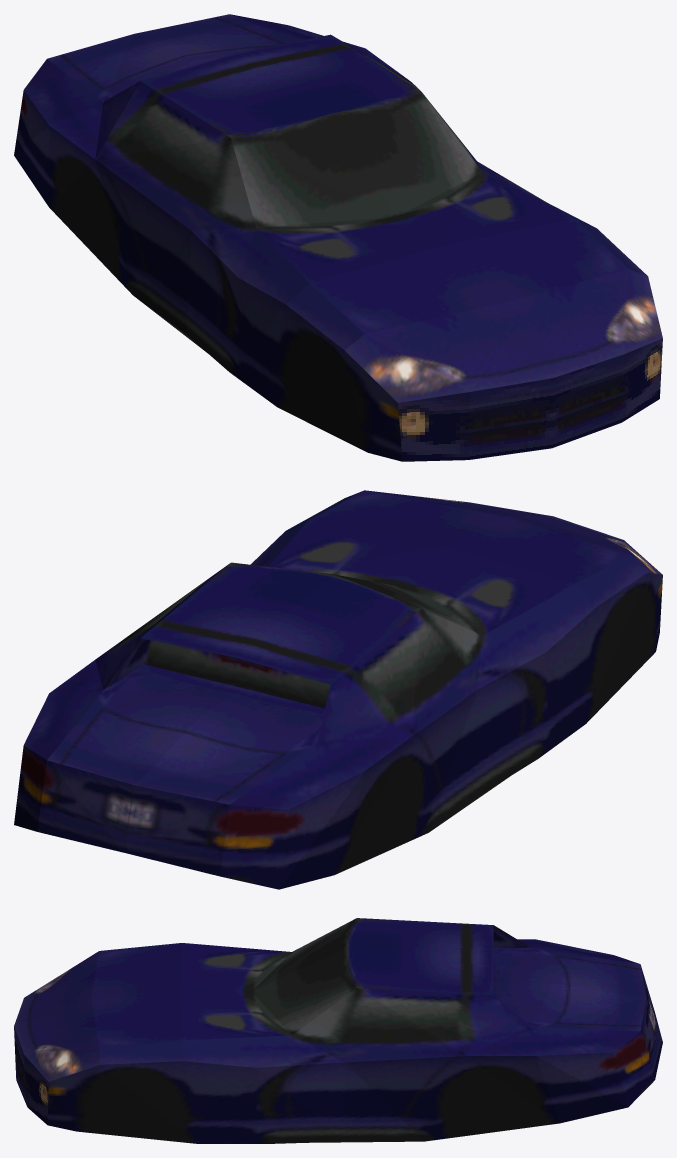
Rendered from viper.glb.
3 views of the same model, one above another, from view 1: azimuth 30°, elevation 25°; view 2: azimuth 150°, elevation 25°; view 3: azimuth 270°, elevation 25° (orthographic). The views are drawn at different scales.
Visible parts, largest first — view 1: topv, rsid, frnt; view 2: rsid, topv, lbl__bklr__rsid, fx__FR1__rsid, lbl__bkll__fx__RR1__rsid; view 3: rsid, topv, lbl__bkll__fx__RR1__rsid, frnt.
Part boxes in pixels (box(x1,y1,x2,y2)): topv: box(47, 14, 662, 402); rsid: box(14, 14, 647, 461); frnt: box(398, 338, 662, 461); rsid: box(24, 491, 662, 889); topv: box(47, 490, 662, 804); lbl__bklr__rsid: box(220, 805, 288, 889); fx__FR1__rsid: box(241, 660, 330, 708); lbl__bkll__fx__RR1__rsid: box(14, 745, 46, 831); rsid: box(47, 925, 662, 1143); topv: box(14, 918, 645, 1081); lbl__bkll__fx__RR1__rsid: box(614, 1031, 654, 1107); frnt: box(14, 1027, 48, 1124).
Bounding box in the file's own units: 1.92 × 1.06 × 4.52.
4 materials, 4 textured.
